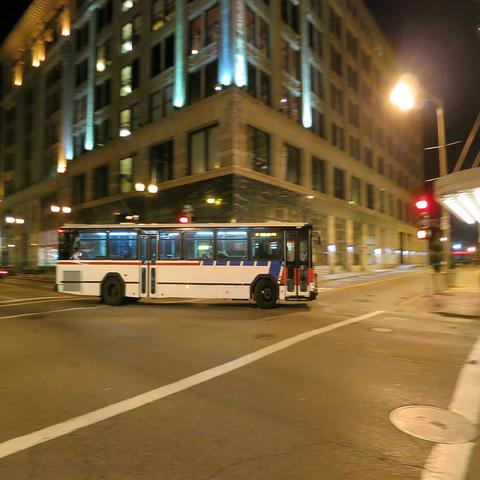bus: (57, 217, 316, 308)
